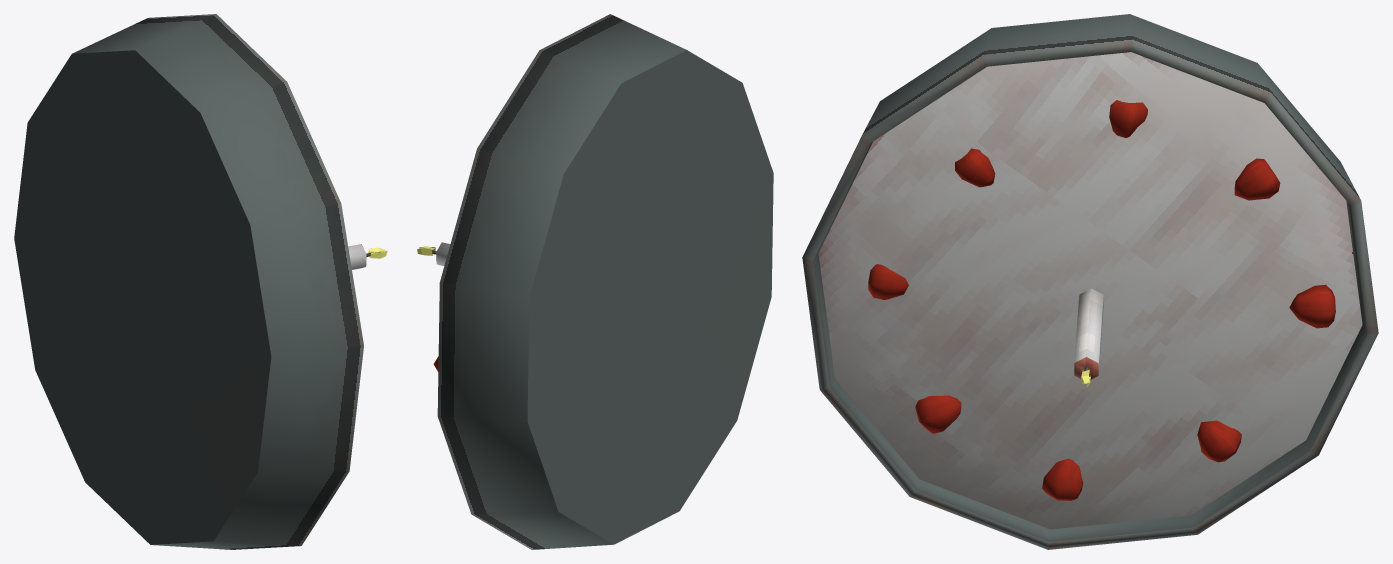
The model's file is H_CakePan_Strawberry_Candle.fbx.
3 renders of one model, left to right at view 1: azimuth 30°, elevation 25°; view 2: azimuth 150°, elevation 25°; view 3: azimuth 270°, elevation 25°, orthographic. The views are drawn at different scales.
Visible parts, largest first — view 1: Strawberry; view 2: Strawberry; view 3: Strawberry.
Part boxes in pixels (x1=…): Strawberry: x1=14, y1=14, x2=387, y2=549; Strawberry: x1=417, y1=14, x2=773, y2=549; Strawberry: x1=802, y1=14, x2=1378, y2=549.
Bounding box in the file's own units: 26.14 × 49.48 × 49.55.
